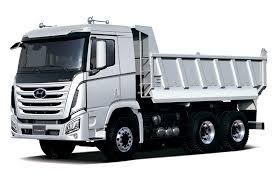hyundai: (33, 87, 46, 101)
